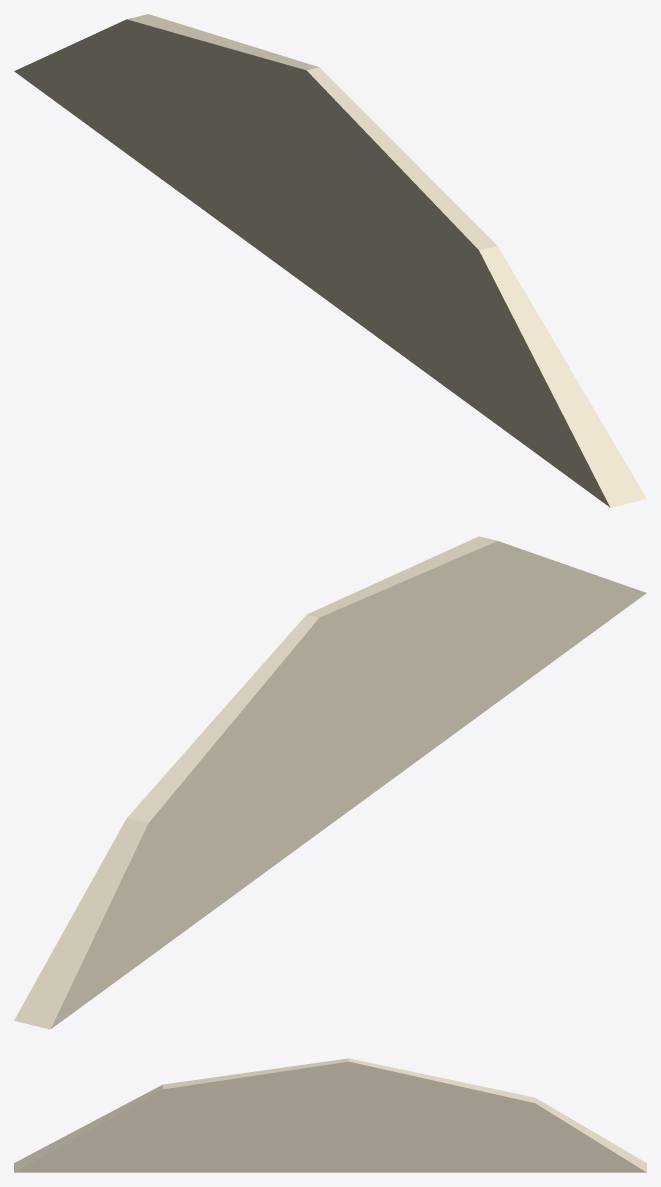
File: cr_crest.fbx
The picture shows the model from 3 angles, top to bottom: view 1: azimuth 30°, elevation 25°; view 2: azimuth 150°, elevation 25°; view 3: azimuth 270°, elevation 25°; orthographic projection. The views are drawn at different scales.
Parts seen in each view (by area): view 1: Crest; view 2: Crest; view 3: Crest.
Boxes of the visible parts, <box> form: Crest: <box>14,14,646,507</box>; Crest: <box>14,536,646,1029</box>; Crest: <box>14,1058,646,1172</box>.
Size of the model in its own units: 0.03 by 0.16 by 0.85.
